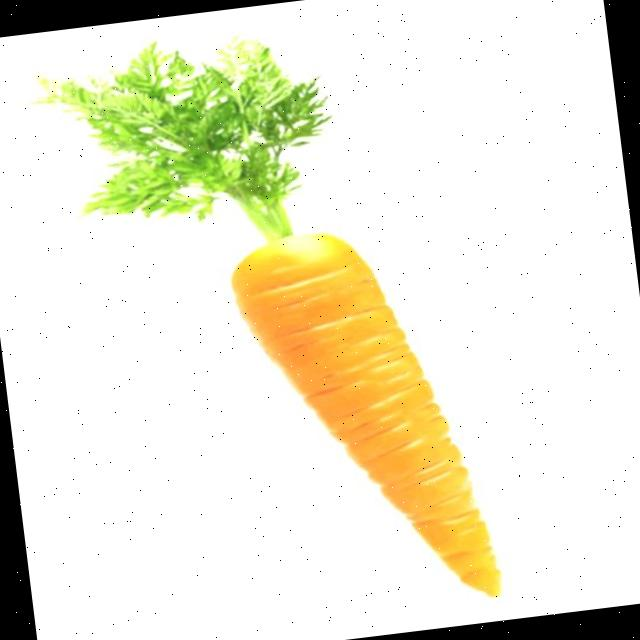carrot: (48, 42, 500, 595)
